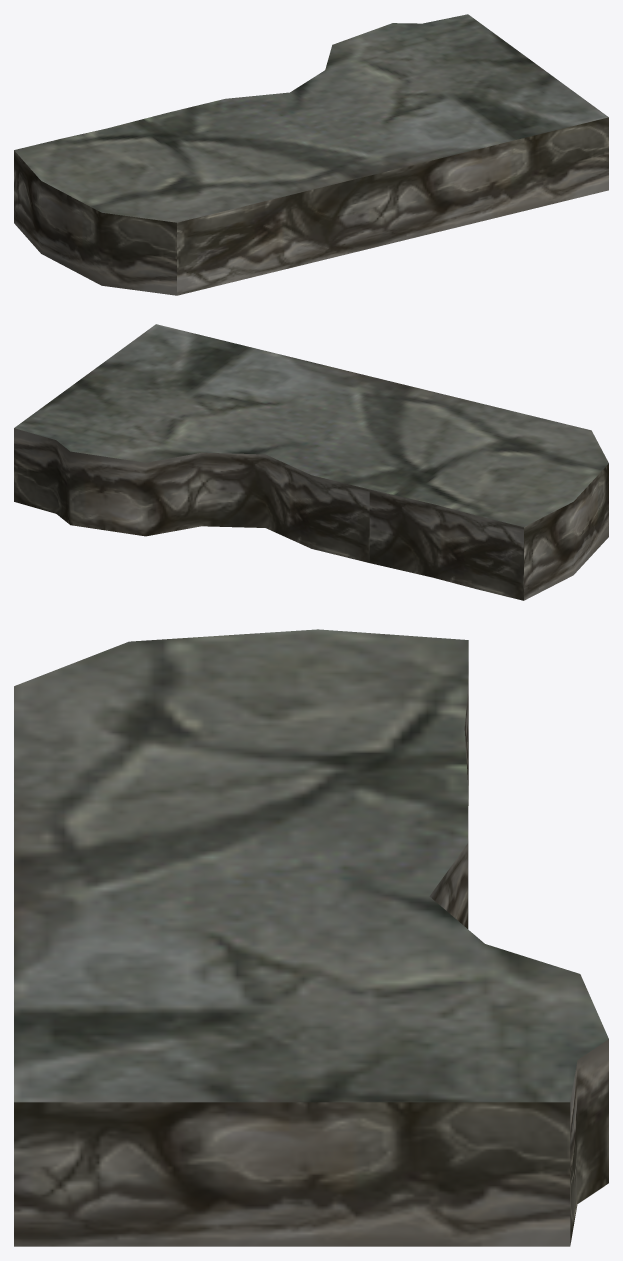
The model's file is Z_dizhuan008.fbx.
The picture shows the model from 3 angles, top to bottom: view 1: azimuth 30°, elevation 25°; view 2: azimuth 150°, elevation 25°; view 3: azimuth 270°, elevation 25°; orthographic projection. The views are drawn at different scales.
Parts seen in each view (by area): view 1: Z_dizhuan008; view 2: Z_dizhuan008; view 3: Z_dizhuan008.
Part boxes in pixels (x1,y1,x2,y2): Z_dizhuan008: (14, 14, 608, 295); Z_dizhuan008: (14, 324, 608, 600); Z_dizhuan008: (14, 629, 608, 1246).
Size of the model in its own units: 139 by 19.8 by 74.03.
